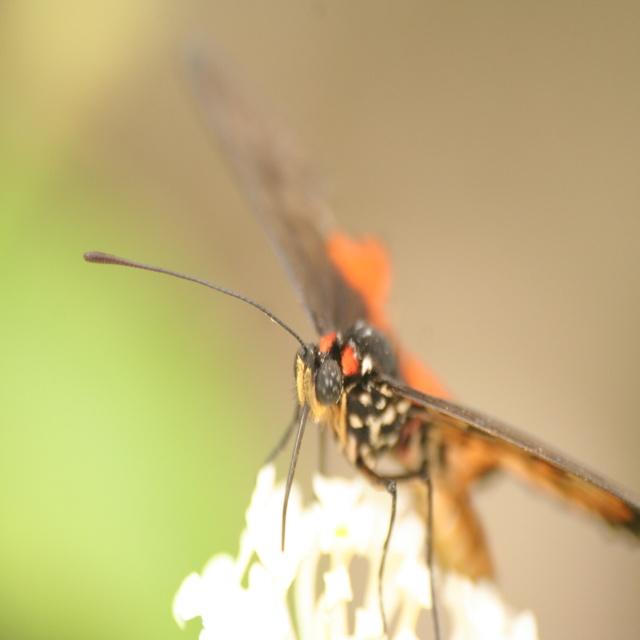Butterfly: (152, 205, 606, 580)
